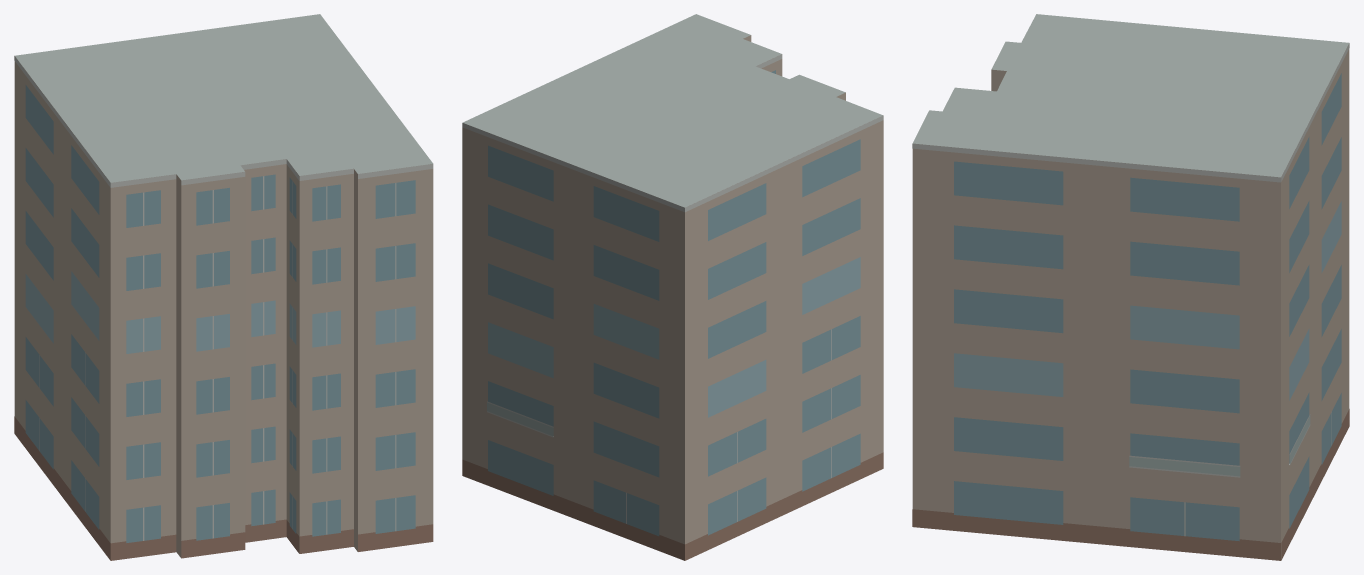
File: survey-upis-32747691.glb
3 renders of one model, left to right at view 1: azimuth 30°, elevation 25°; view 2: azimuth 150°, elevation 25°; view 3: azimuth 270°, elevation 25°, orthographic. The views are drawn at different scales.
Parts seen in each view (by area): view 1: survey-upis-32747691.tmp; view 2: survey-upis-32747691.tmp; view 3: survey-upis-32747691.tmp.
Boxes of the visible parts, x1=… form: survey-upis-32747691.tmp: x1=14, y1=14, x2=433, y2=560; survey-upis-32747691.tmp: x1=462, y1=14, x2=883, y2=560; survey-upis-32747691.tmp: x1=912, y1=14, x2=1349, y2=560.
Bounding box in the file's own units: 16.73 × 18.3 × 18.91.
